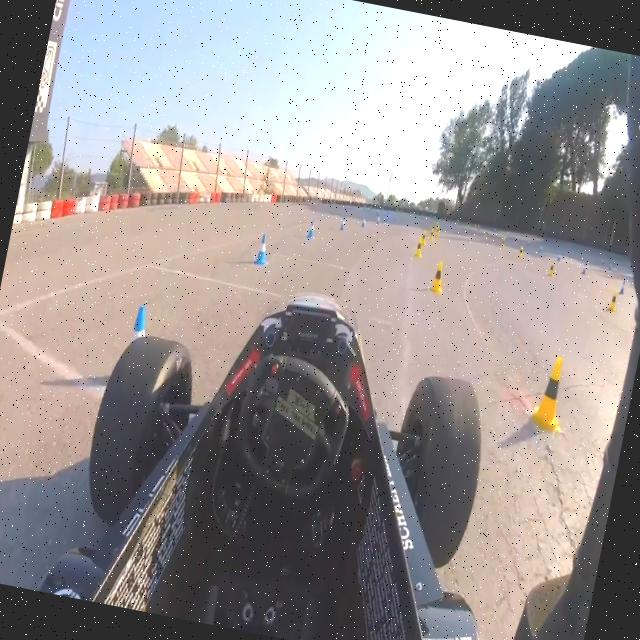blue_cone: (111, 304, 158, 397), (250, 230, 274, 270), (304, 218, 318, 242), (359, 213, 368, 231), (581, 259, 589, 279), (339, 216, 348, 233), (618, 277, 626, 294), (375, 213, 382, 227)
yellow_cone: (528, 351, 571, 436), (428, 257, 448, 297), (605, 288, 620, 318), (414, 237, 424, 259), (546, 260, 557, 280), (516, 244, 525, 260), (428, 228, 436, 244), (421, 230, 428, 247)
